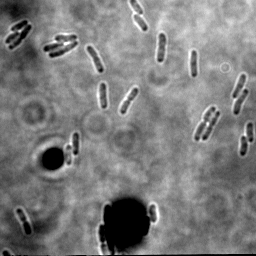Dividing: (194, 105, 217, 142), (8, 22, 34, 51), (201, 110, 222, 141), (86, 43, 106, 74), (119, 86, 140, 115), (48, 41, 80, 59), (16, 206, 34, 237), (156, 32, 167, 63)
Rod: (232, 88, 249, 116), (231, 72, 248, 99), (189, 48, 199, 79), (132, 13, 149, 31), (42, 40, 65, 53), (98, 82, 109, 109), (10, 17, 29, 32), (4, 29, 21, 44), (127, 1, 145, 15), (54, 33, 78, 43), (72, 130, 81, 156), (239, 135, 249, 158), (64, 143, 74, 166), (149, 204, 160, 223), (246, 121, 254, 144)
